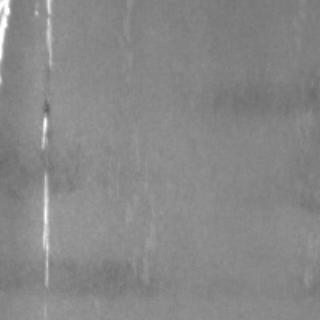scratches: (30, 96, 54, 294), (36, 0, 56, 72)
